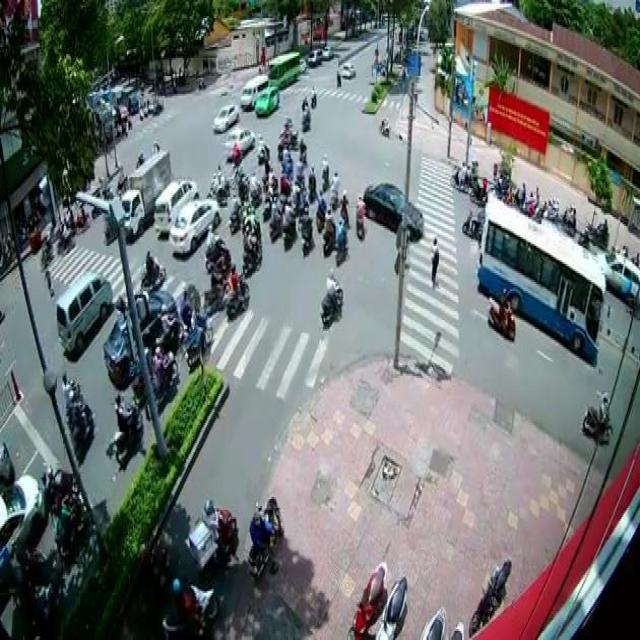bus: (476, 192, 604, 362)
car: (102, 287, 174, 383), (362, 181, 424, 240), (168, 199, 220, 253), (153, 179, 197, 230), (598, 251, 640, 302), (223, 127, 254, 159), (210, 101, 238, 132), (253, 85, 279, 114)
motorcycle: (113, 392, 144, 465), (579, 388, 613, 444), (488, 287, 516, 340), (223, 260, 249, 314), (319, 268, 343, 326), (241, 222, 262, 273), (140, 248, 166, 289), (280, 195, 297, 253), (320, 206, 337, 255), (298, 206, 314, 255), (336, 215, 348, 264), (354, 192, 366, 238)
truck: (56, 271, 113, 356), (119, 148, 170, 230), (239, 74, 268, 107)
